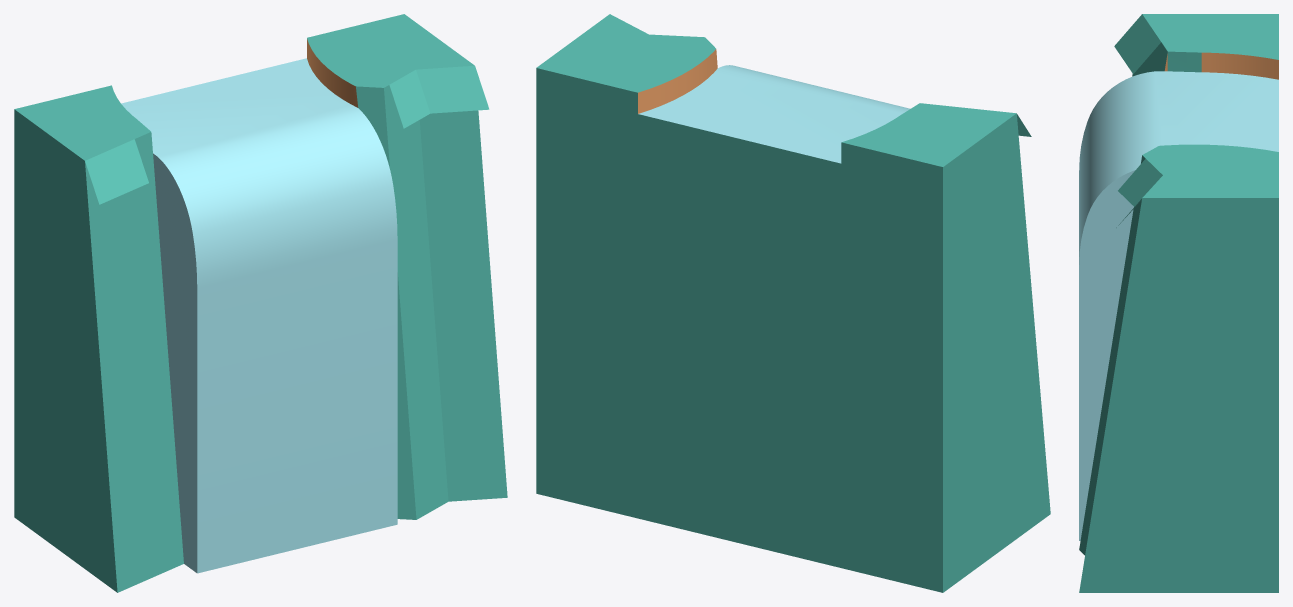
File: cliffBrown_waterfallTop.fbx
3 views of the same model, side by side, from view 1: azimuth 30°, elevation 25°; view 2: azimuth 150°, elevation 25°; view 3: azimuth 270°, elevation 25° (orthographic). The views are drawn at different scales.
Parts seen in each view (by area): view 1: cliffBrown_waterfallTop; view 2: cliffBrown_waterfallTop; view 3: cliffBrown_waterfallTop.
Part boxes in pixels (x1,y1,x2,y2): cliffBrown_waterfallTop: [14, 14, 507, 592]; cliffBrown_waterfallTop: [536, 14, 1050, 592]; cliffBrown_waterfallTop: [1079, 14, 1278, 592].
Bounding box in the file's own units: 10 × 10 × 4.58.
